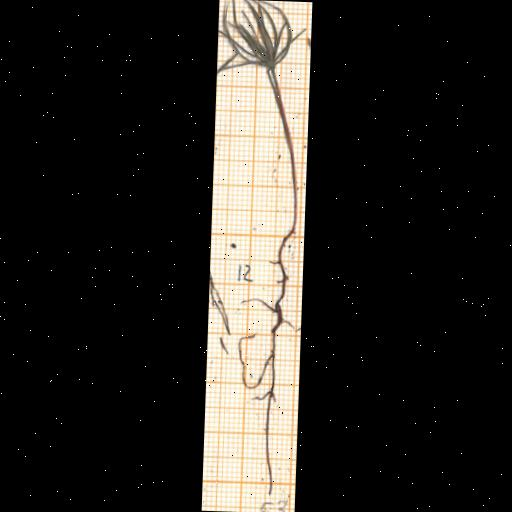flowerPinus: (215, 0, 294, 73)
rootPinus: (239, 229, 294, 495)
stemPinus: (267, 71, 297, 263)
